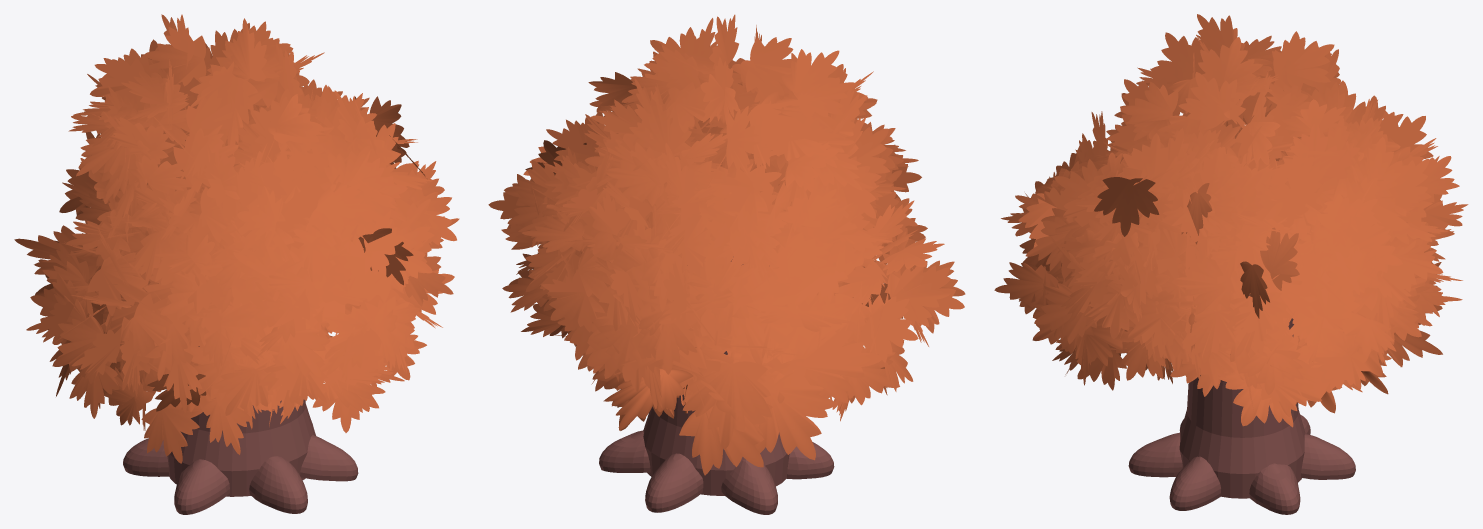
File: arvore.fbx
The picture shows the model from 3 angles, left to right: view 1: azimuth 30°, elevation 25°; view 2: azimuth 150°, elevation 25°; view 3: azimuth 270°, elevation 25°; orthographic projection. The views are drawn at different scales.
Parts seen in each view (by area): view 1: Leaves, Tronco; view 2: Leaves, Tronco; view 3: Leaves, Tronco.
Part boxes in pixels (left/top/right/bottom): Leaves: left=14, top=14, right=459, bottom=463; Tronco: left=123, top=346, right=358, bottom=514; Leaves: left=488, top=14, right=965, bottom=475; Tronco: left=599, top=256, right=834, bottom=514; Leaves: left=994, top=14, right=1468, bottom=427; Tronco: left=1128, top=294, right=1355, bottom=514.
Bounding box in the file's own units: 245 × 268 × 264.
